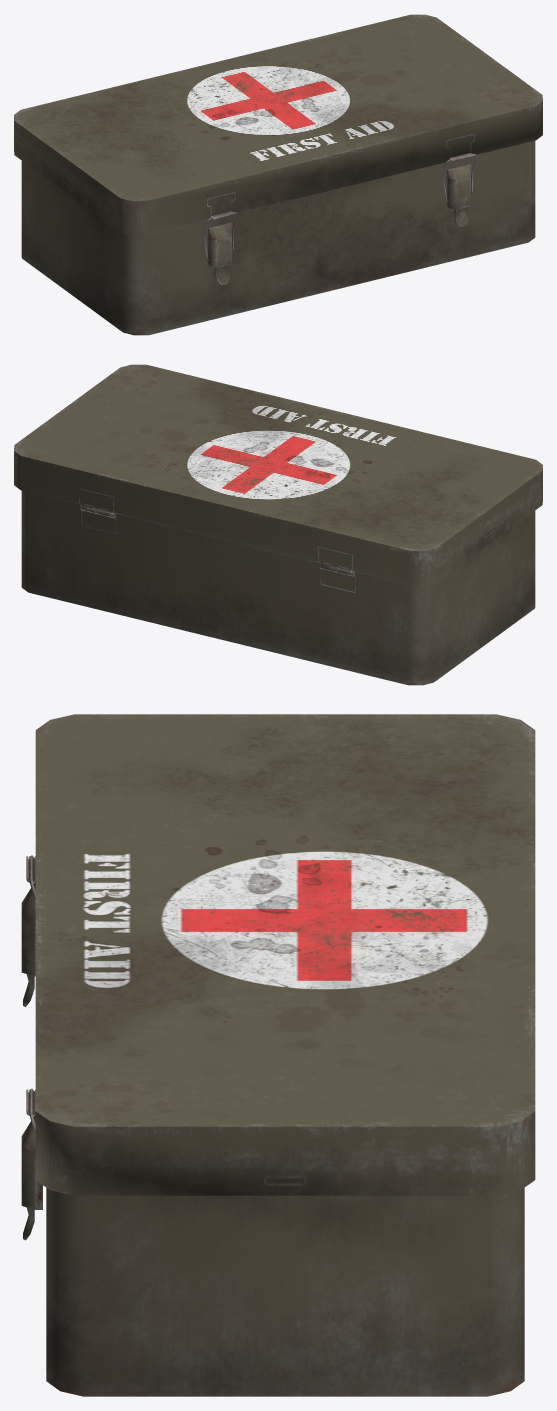
Rendered from first_aid.glb.
3 views of the same model, one above another, from view 1: azimuth 30°, elevation 25°; view 2: azimuth 150°, elevation 25°; view 3: azimuth 270°, elevation 25° (orthographic). The views are drawn at different scales.
Parts seen in each view (by area): view 1: Object_2; view 2: Object_2; view 3: Object_2.
Boxes of the visible parts, bbox=[...] form: Object_2: bbox=[14, 14, 542, 335]; Object_2: bbox=[14, 364, 542, 685]; Object_2: bbox=[21, 714, 535, 1396].
Bounding box in the file's own units: 0.4121 × 0.1281 × 0.2169.
1 material, 1 textured.
